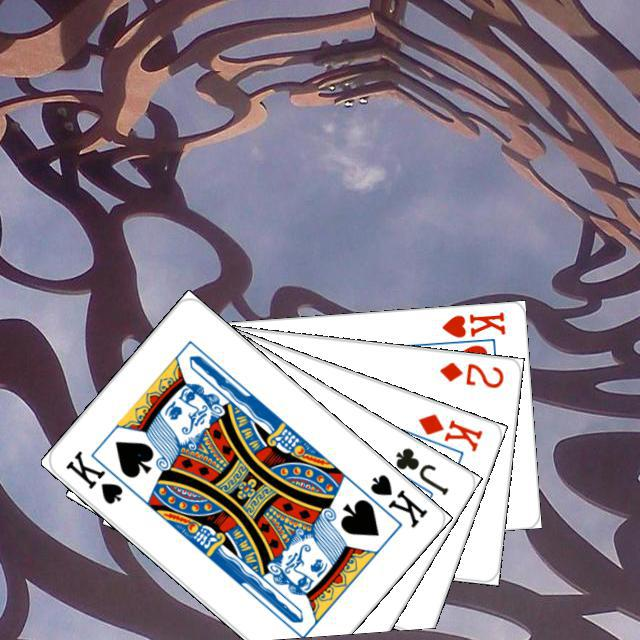2d: (434, 356, 505, 390)
Jc: (390, 442, 451, 497)
Kd: (413, 408, 485, 454)
Kh: (432, 307, 507, 347)
Ks: (60, 445, 137, 506), (365, 469, 429, 530)
